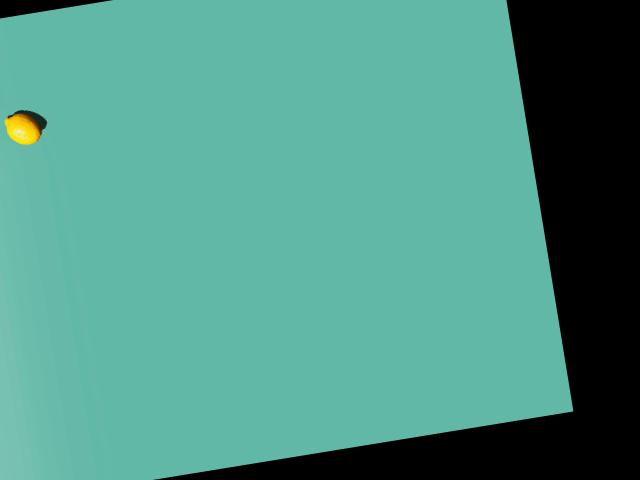lemon: (0, 103, 52, 147)
